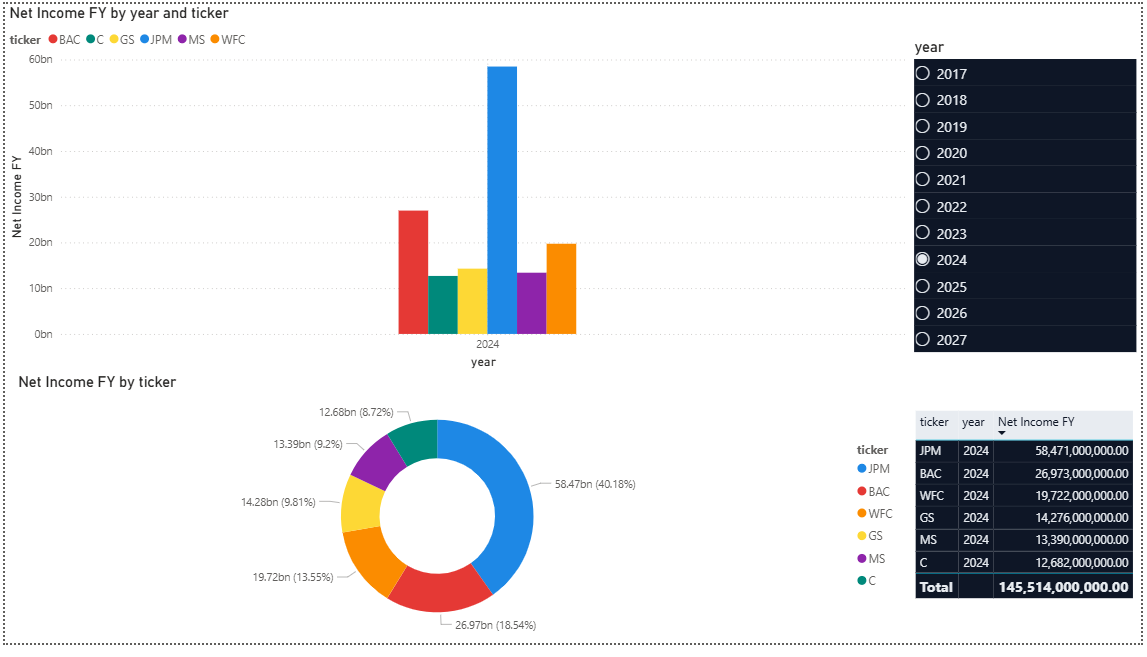

What the dashboard file says about the page in this screenshot:
{"tool":"powerbi","page":{"name":"Page 2","canvas":[1280,720],"ordinal":1},"visuals":[{"type":"lineClusteredColumnComboChart","fields":{"Category":["dim_date.year"],"Y":["fact_financials.Net Income FY"],"Series":["dim_company.ticker"]},"box":[0,0,1019.7,415.5],"z":0},{"type":"donutChart","fields":{"Category":["dim_company.ticker"],"Y":["fact_financials.Net Income FY"]},"box":[9.9,415.5,1009.9,304.2],"z":1000},{"type":"listSlicer","fields":{"Values":["dim_date.year"]},"box":[1019.7,38,260.6,415.5],"z":2000},{"type":"tableEx","fields":{"Values":["dim_company.ticker","dim_date.year","fact_financials.Net Income FY"]},"box":[1019.7,453.5,260.6,266.2],"z":2001}]}

Visuals, with their boxes in screenshot pixels (x1, y1, x2, y2), scaled from the page's 1280x720 canvas onto the 1147x657 screenshot:
lineClusteredColumnComboChart - dim_date.year x fact_financials.Net Income FY: bbox=(0, 0, 914, 379)
donutChart - dim_company.ticker x fact_financials.Net Income FY: bbox=(9, 379, 914, 656)
listSlicer - dim_date.year: bbox=(914, 35, 1146, 414)
tableEx - dim_company.ticker x dim_date.year: bbox=(914, 414, 1146, 656)
